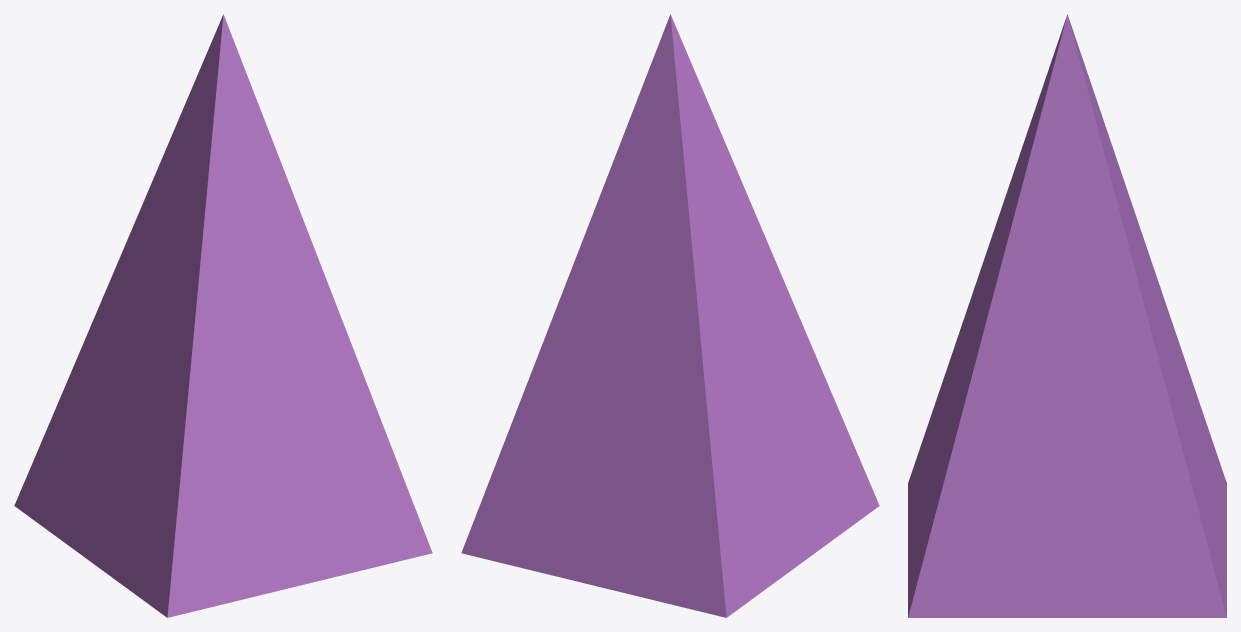
Rendered from pyr_sm.fbx.
3 views of the same model, side by side, from view 1: azimuth 30°, elevation 25°; view 2: azimuth 150°, elevation 25°; view 3: azimuth 270°, elevation 25° (orthographic). The views are drawn at different scales.
Visible parts, largest first — view 1: Cube; view 2: Cube; view 3: Cube.
Part boxes in pixels (x1=…): Cube: x1=14, y1=14, x2=432, y2=617; Cube: x1=461, y1=14, x2=879, y2=617; Cube: x1=908, y1=14, x2=1226, y2=617.
Size of the model in its own units: 64.33 by 64.33 by 119.
